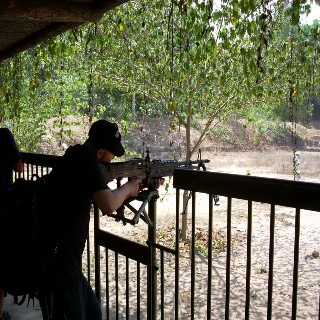rifle: (95, 149, 220, 215)
